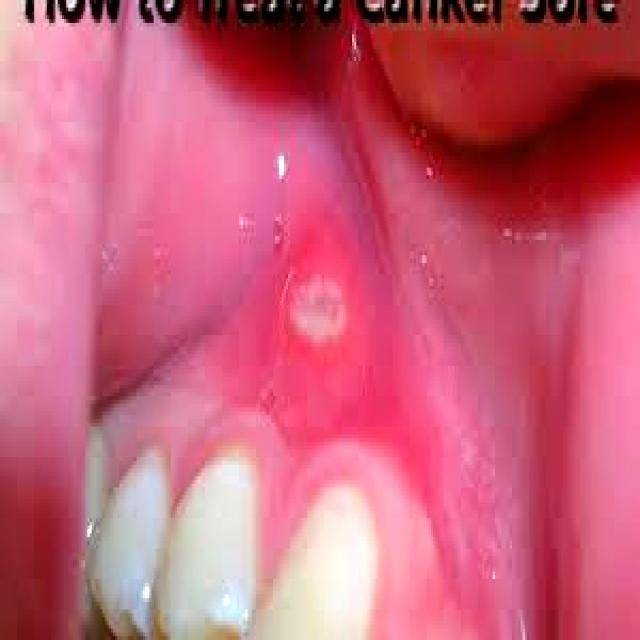ulcer: (290, 274, 343, 343)
